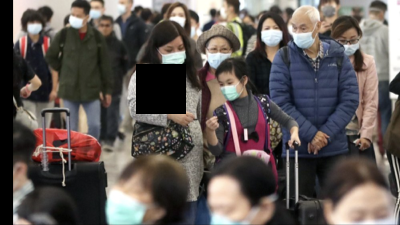with_mask: (103, 175, 156, 224), (204, 195, 253, 224), (159, 42, 187, 71), (206, 42, 232, 71), (292, 21, 316, 50), (259, 23, 285, 46), (218, 76, 241, 101), (338, 33, 361, 57), (168, 10, 186, 29), (68, 11, 86, 28), (24, 20, 44, 35), (321, 0, 337, 18), (220, 2, 230, 19), (116, 0, 128, 14), (90, 5, 102, 19)
without_mask: (98, 18, 113, 36)
